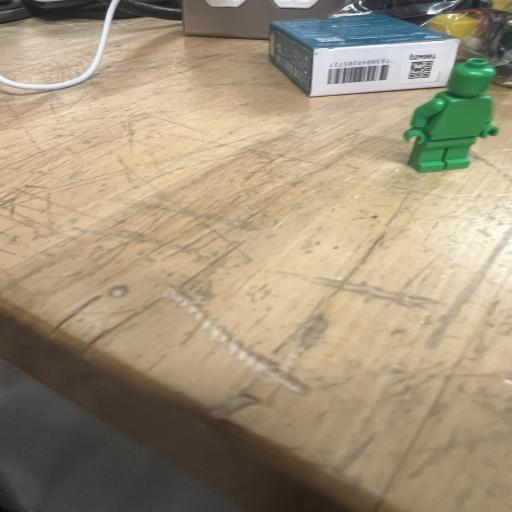green-lego-minifigure-detector: (404, 59, 499, 172)
